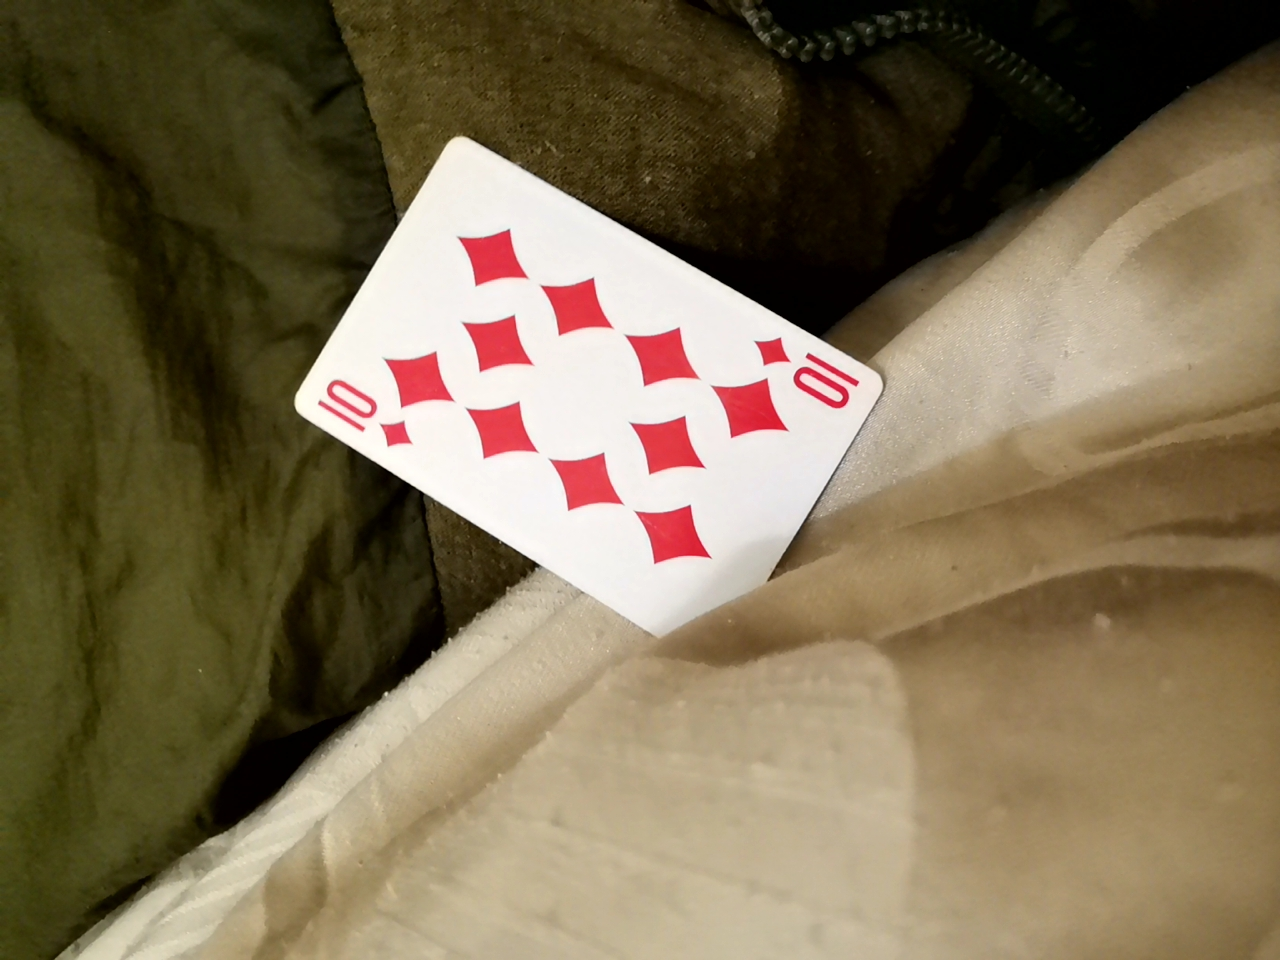fk 10: (260, 140, 879, 652)
